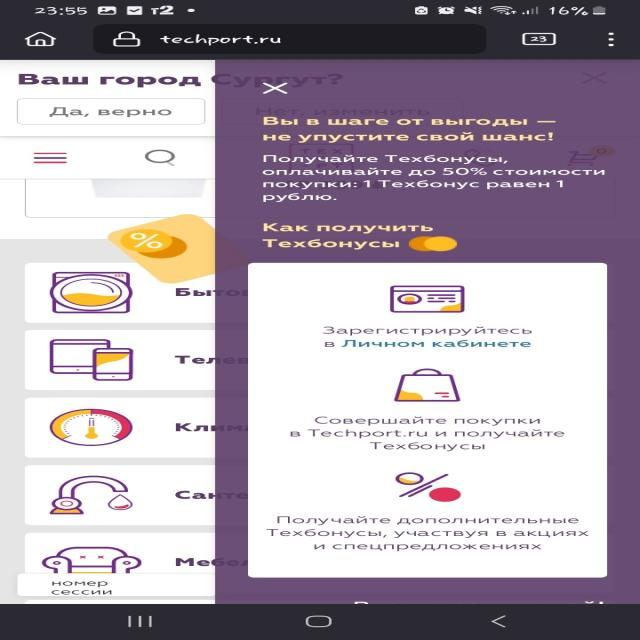button: (16, 98, 204, 125), (251, 77, 302, 99)
site: (218, 59, 640, 603), (0, 59, 218, 136)
